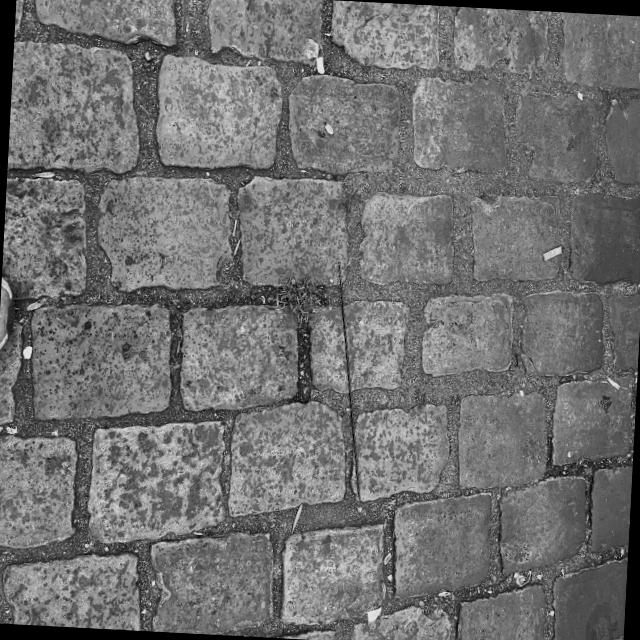pavement: (160, 6, 573, 426), (401, 160, 640, 583), (143, 493, 622, 640), (157, 421, 336, 504)
weed: (355, 433, 396, 497)
